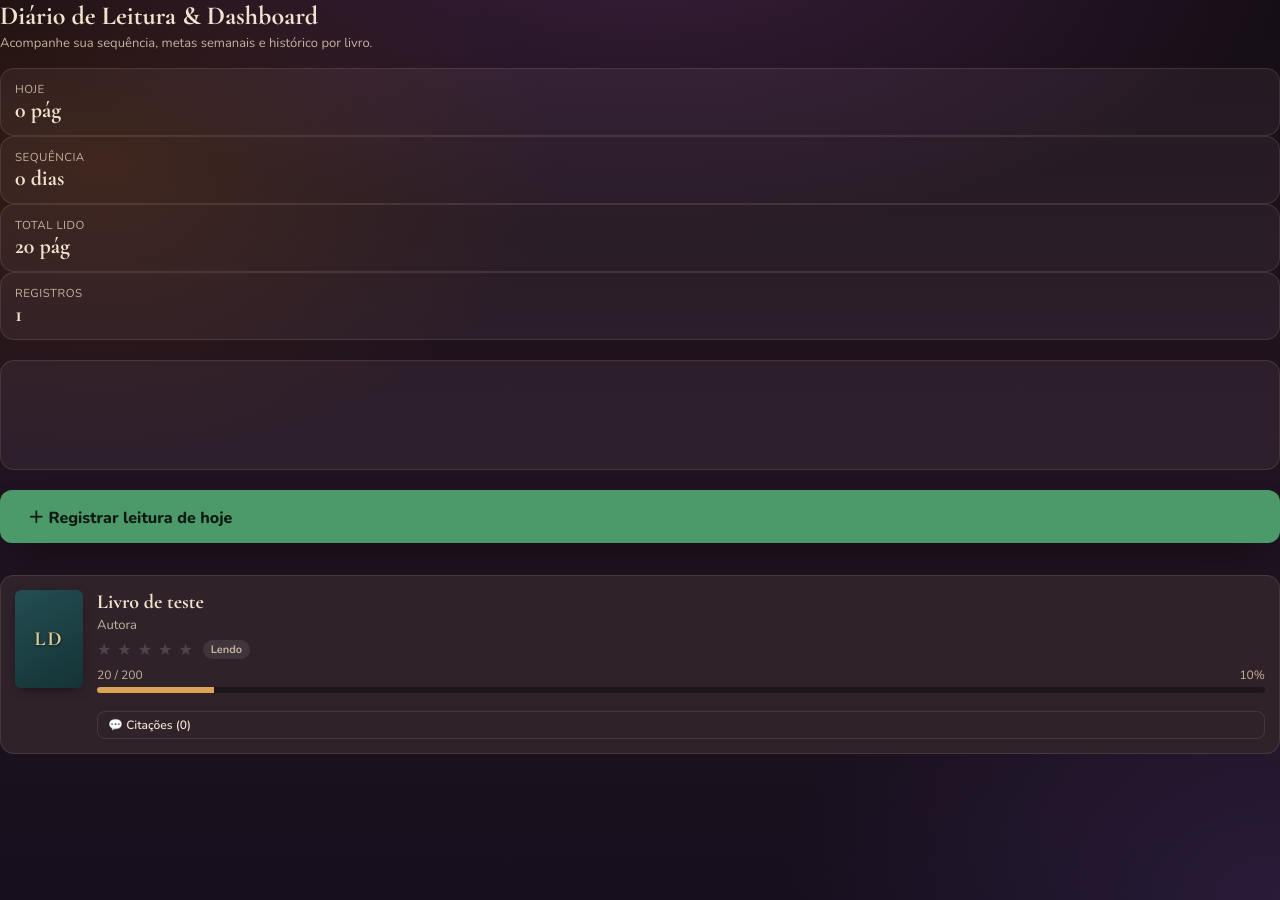
Test: Diário — fluxo de resenha (MVP 1) › fechar a folha sem salvar também retorna à contracapa
Click the button titled "Virar o livro em 3D": (49, 639) [15,590,83,688]
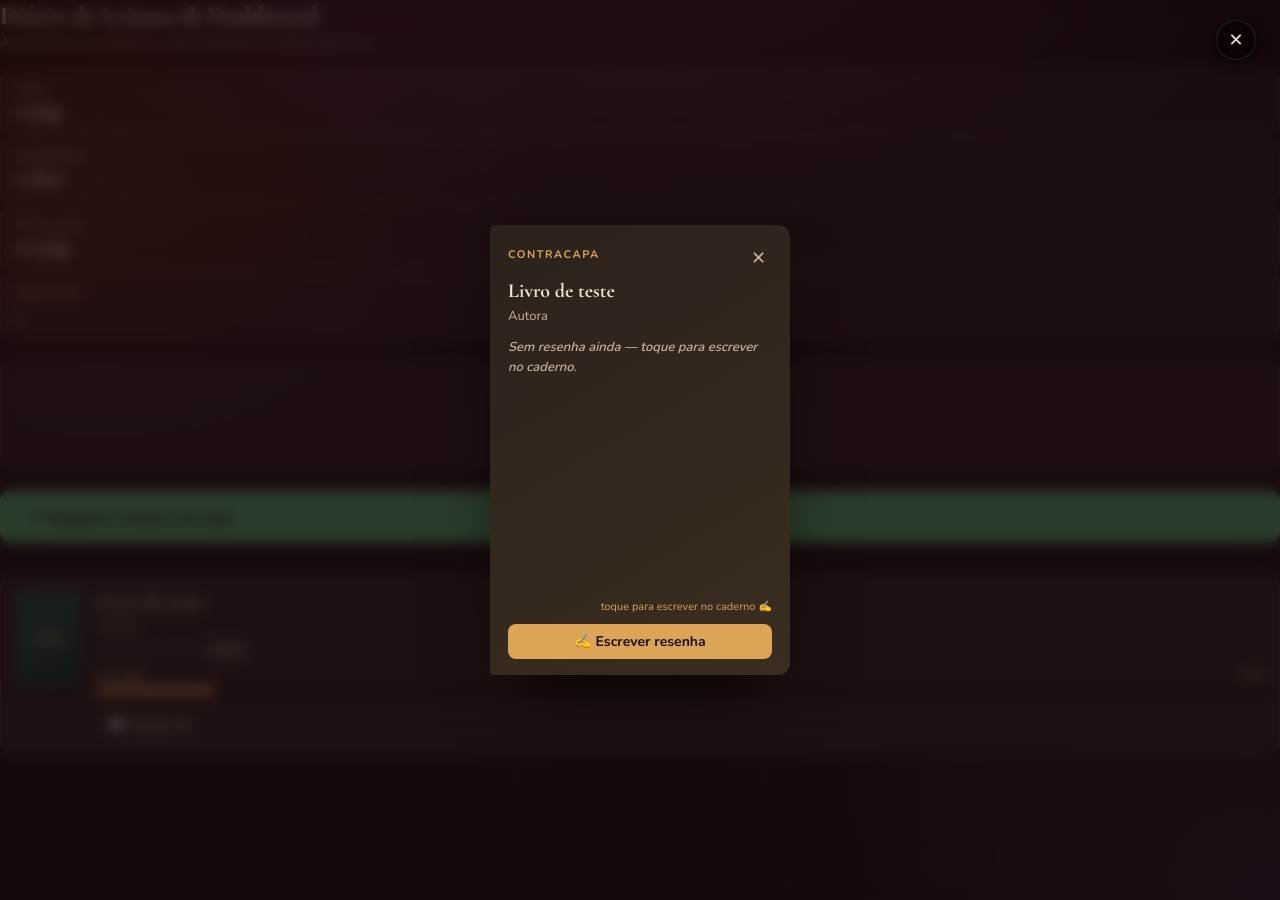
Expected: the dialog with id "flipview" is shown
Expected: the button "✍️ Escrever resenha" is enabled
Click the button "✍️ Escrever resenha": (640, 642) [508,624,772,659]
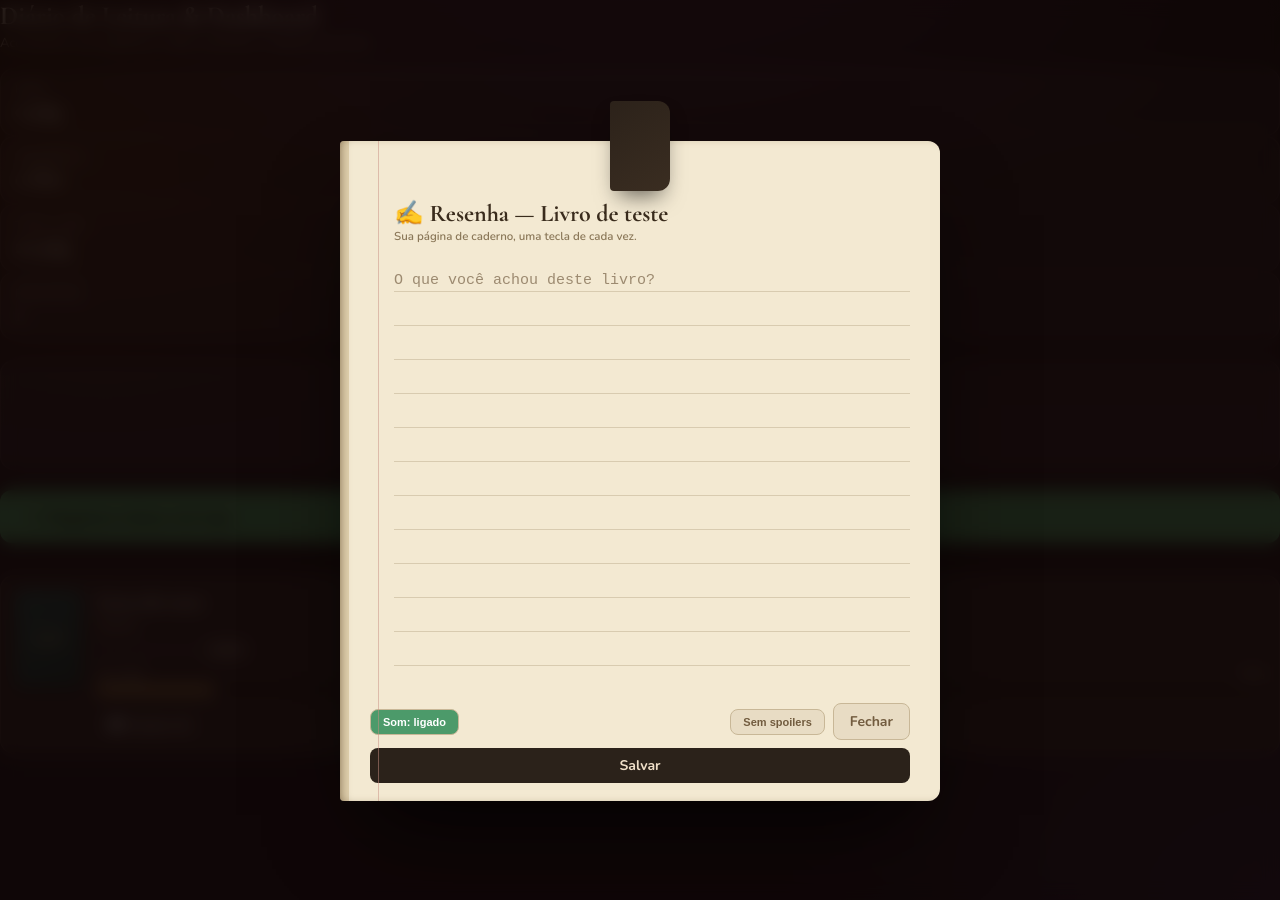
Click the button "Fechar": (871, 722) [833,703,910,740]
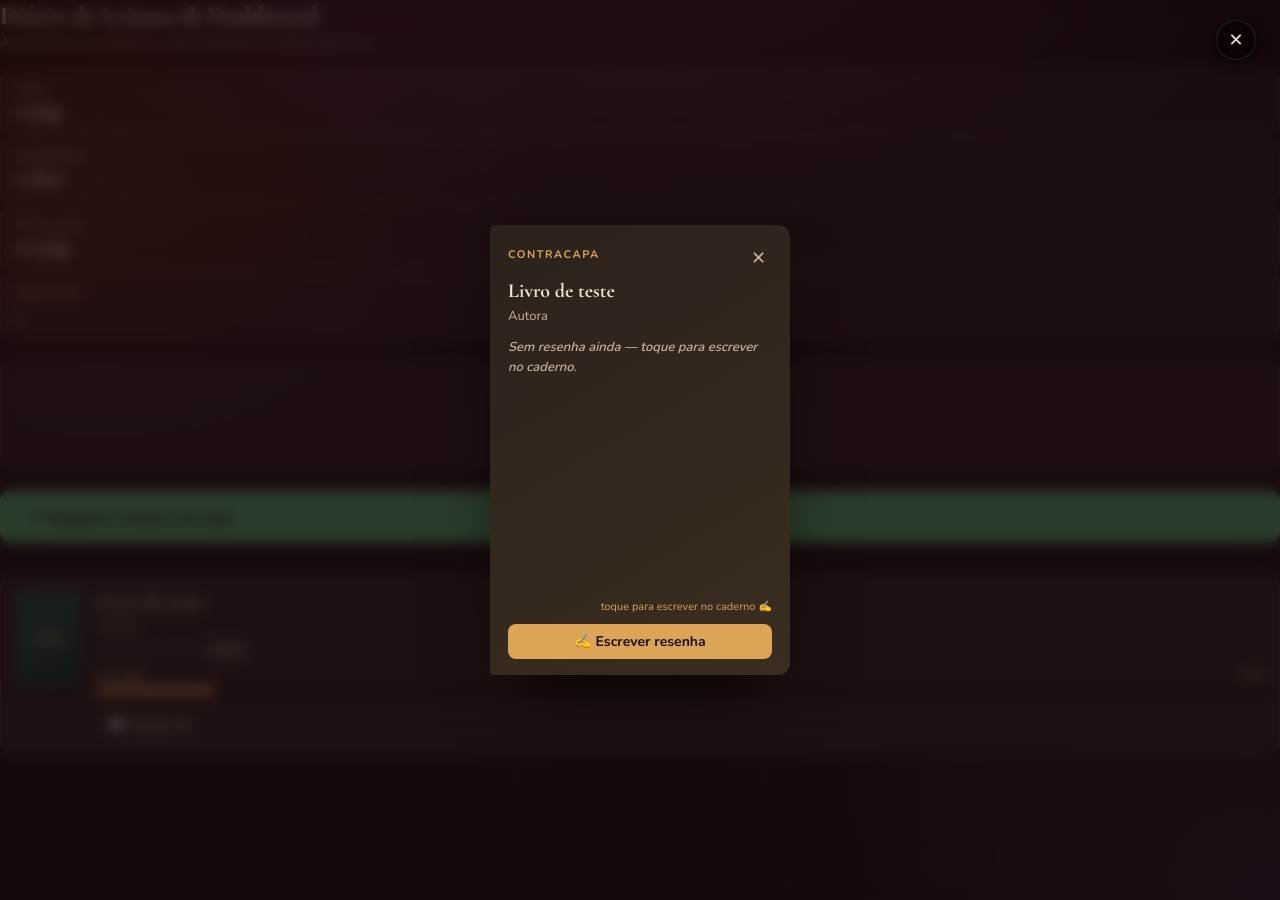
Expected: the element with id "caderno" is gone
Expected: the dialog with id "flipview" is shown
Expected: the button "✍️ Escrever resenha" is shown, [508,624,772,659]
